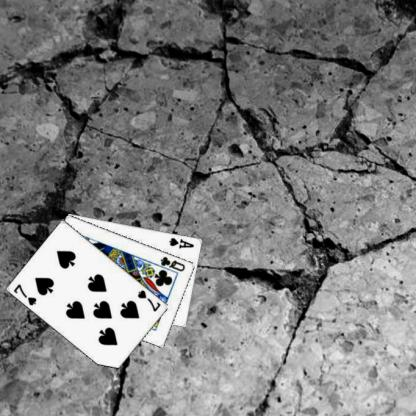7S: (135, 287, 162, 313), (11, 281, 38, 307)
AS: (167, 235, 195, 249)
QC: (158, 254, 187, 272)
